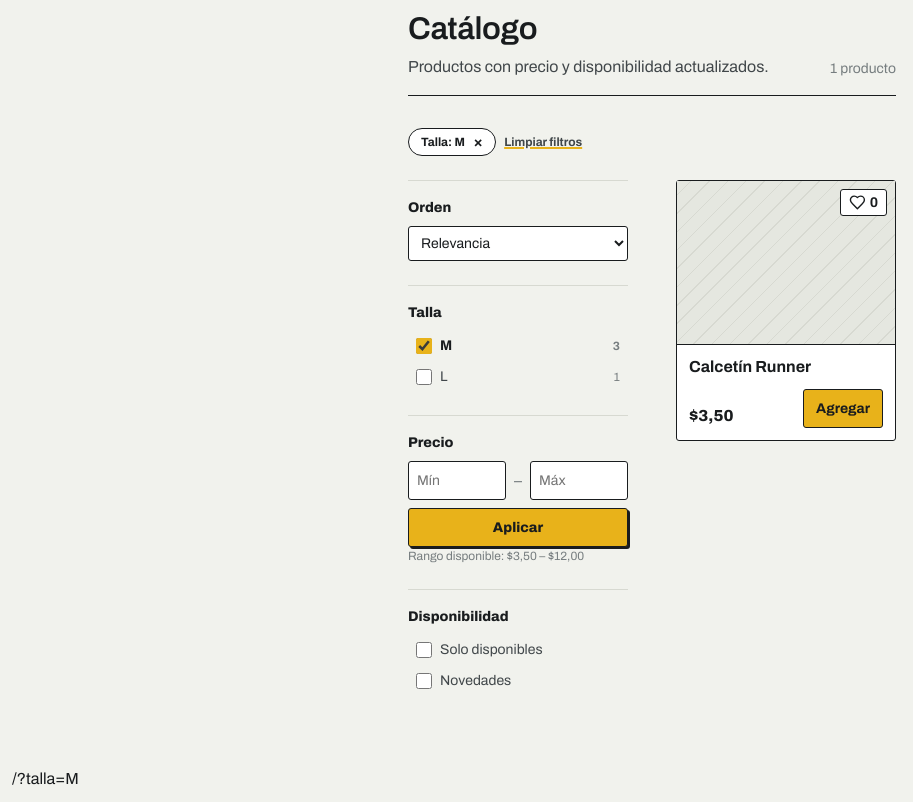
CatalogPage › quitar un chip limpia el filtro
Step 1. Click the button "Talla: M ×" → [452, 142], box x1=408 y1=128 x2=496 y2=156
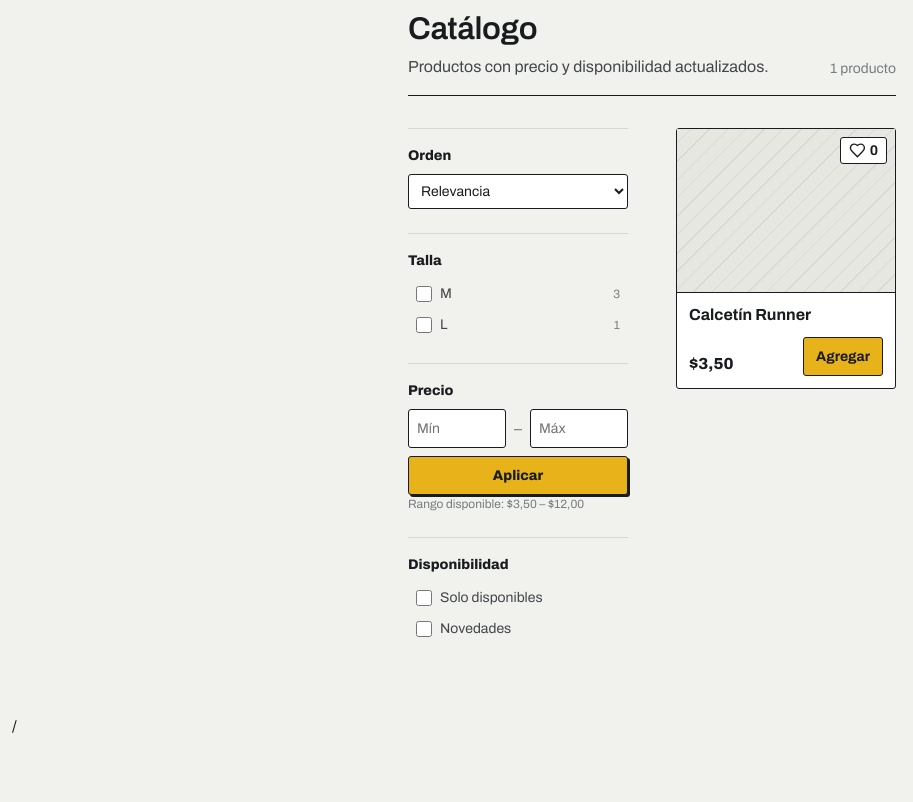
Now the text with test id "location" no longer shows "talla=", box x1=12 y1=718 x2=17 y2=735
